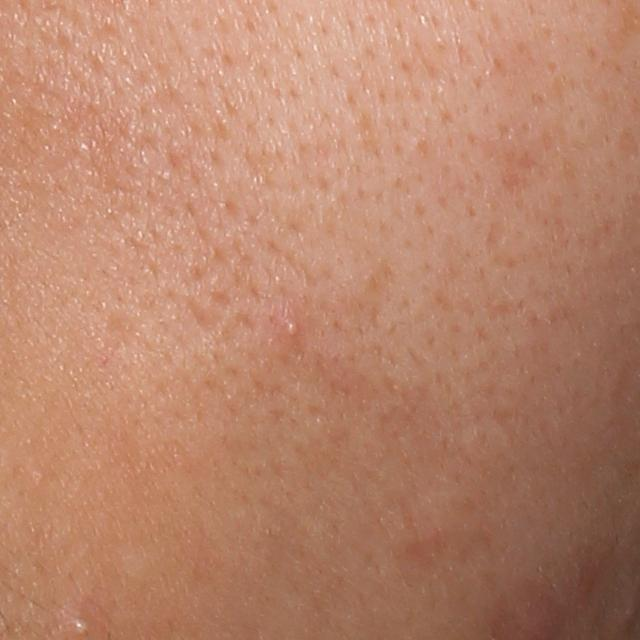atrophic_scar: (183, 296, 229, 341)
pustule: (279, 312, 306, 346)
